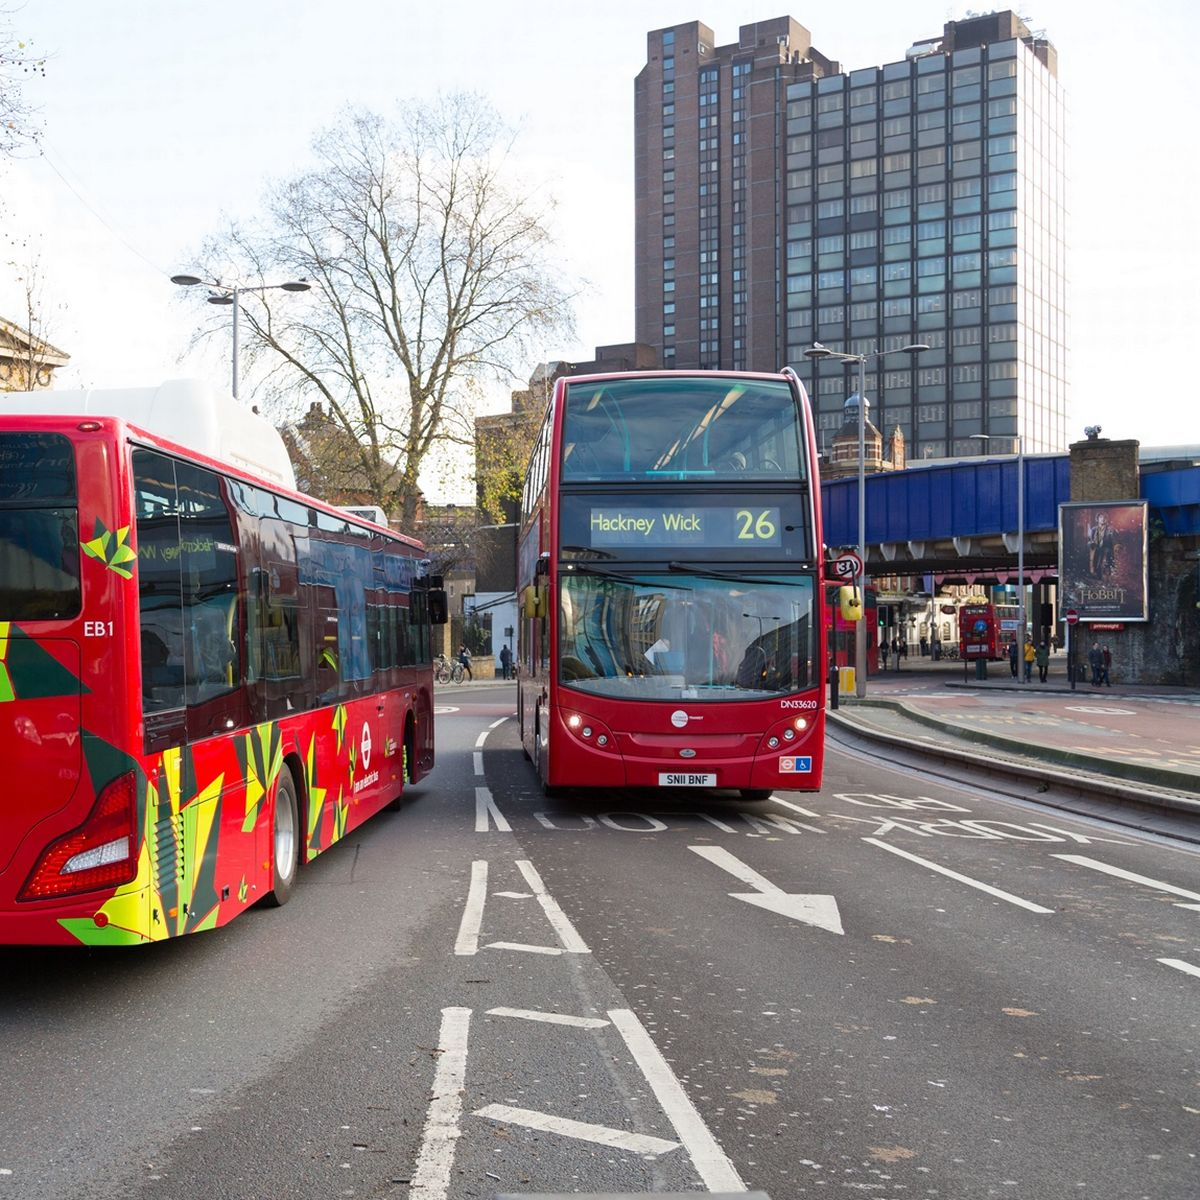bus: (3, 384, 437, 959), (515, 368, 833, 801), (955, 597, 1030, 658)
